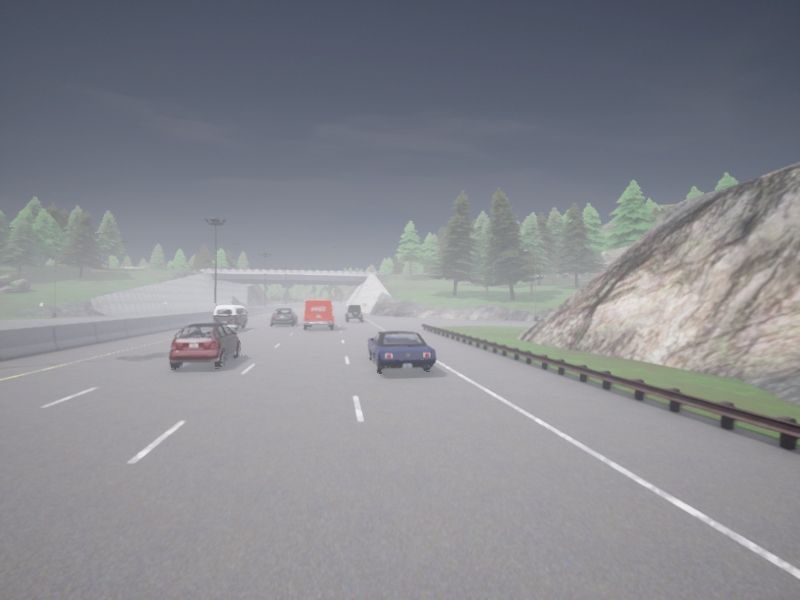vehicle: (169, 323, 240, 368), (368, 331, 435, 372), (303, 300, 334, 328), (213, 305, 247, 330), (271, 308, 297, 325), (345, 305, 362, 321)
